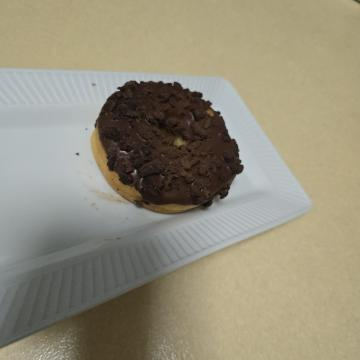doughnut: (69, 112, 224, 278)
